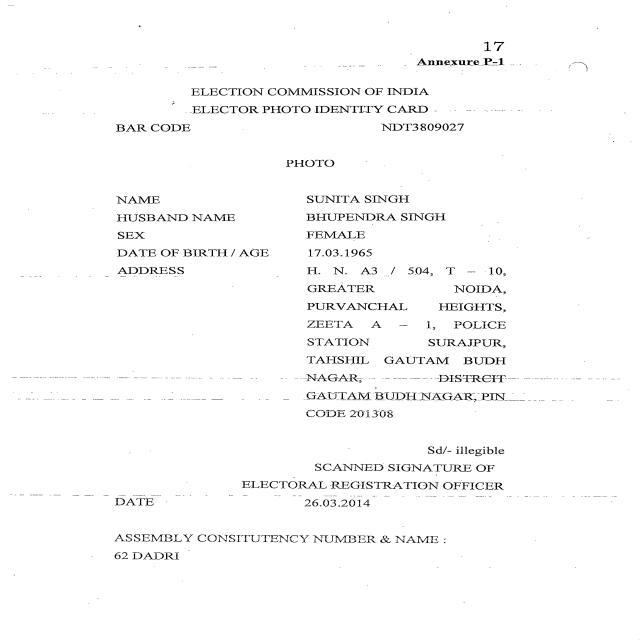page-number: (407, 0, 640, 56)
